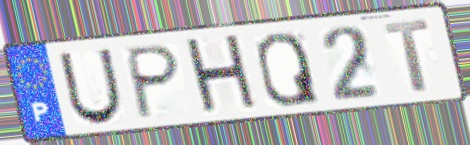2: (320, 23, 382, 104)
H: (180, 31, 263, 119)
P: (125, 43, 184, 123)
Q: (253, 30, 323, 109)
T: (381, 17, 433, 95)
U: (56, 46, 126, 127)
